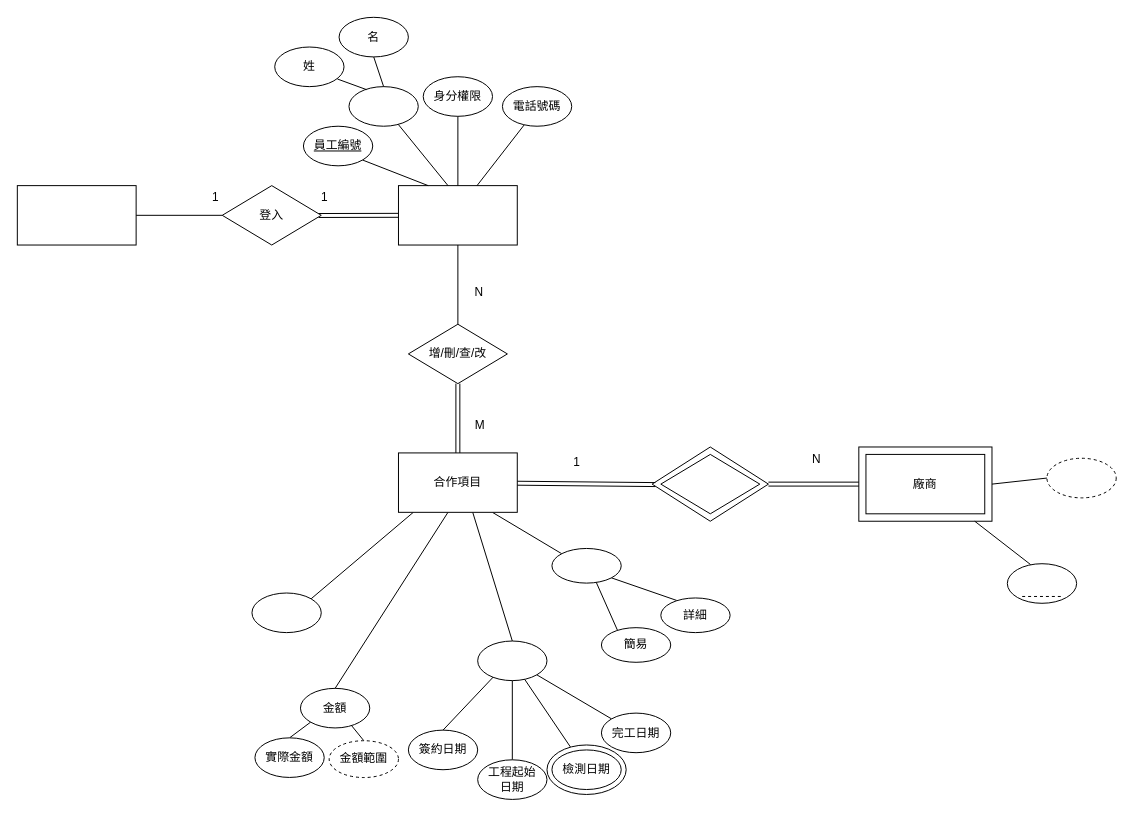
The diagram is 1134 pixels wide and 817 high, and some of its shapes have lost their labels. The shapes that lost their labels are listed below. From the top down, each one's box as (x1, y1, x2, y2) in pixels, then its label:
(348, 86, 418, 126): 姓名
(16, 185, 136, 245): 使用者
(397, 185, 517, 245): 員工帳戶
(660, 453, 760, 514): 合作
(1046, 457, 1116, 498): 合作次數
(551, 547, 621, 583): 項目內容
(1006, 563, 1077, 603): 廠商名稱
(251, 592, 321, 633): 項目名稱
(477, 640, 547, 681): 日期
